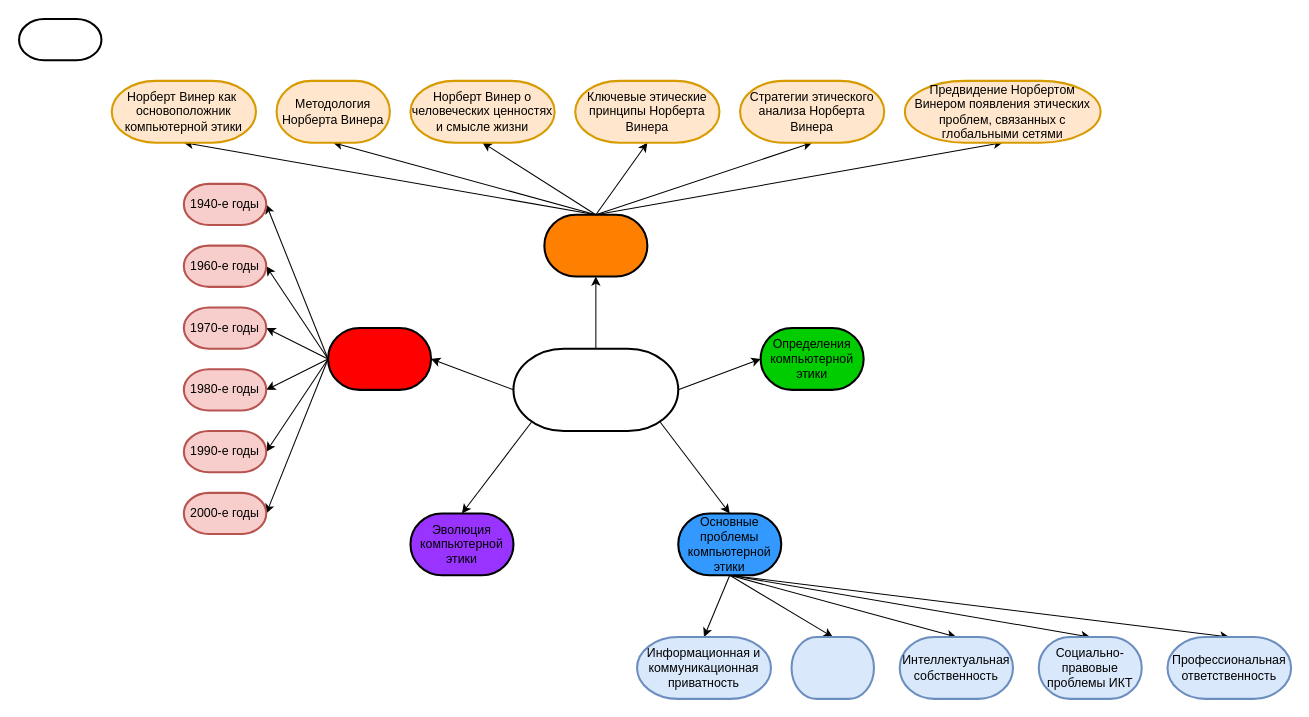
The diagram is 1309 pixels wide and 717 high, and some of its shapes have lost their labels. Each missing label, with the box of its shape:
Возникновение компьютерной этики: (543, 213, 648, 277)
Отец Кибернетики: (18, 18, 102, 61)
Этапы развития и основные проблемы компьютерной этики: (512, 347, 679, 432)
Этапы развития компьютерной этики: (327, 327, 432, 390)
Этичность поведения в Интернете: (790, 636, 874, 699)
